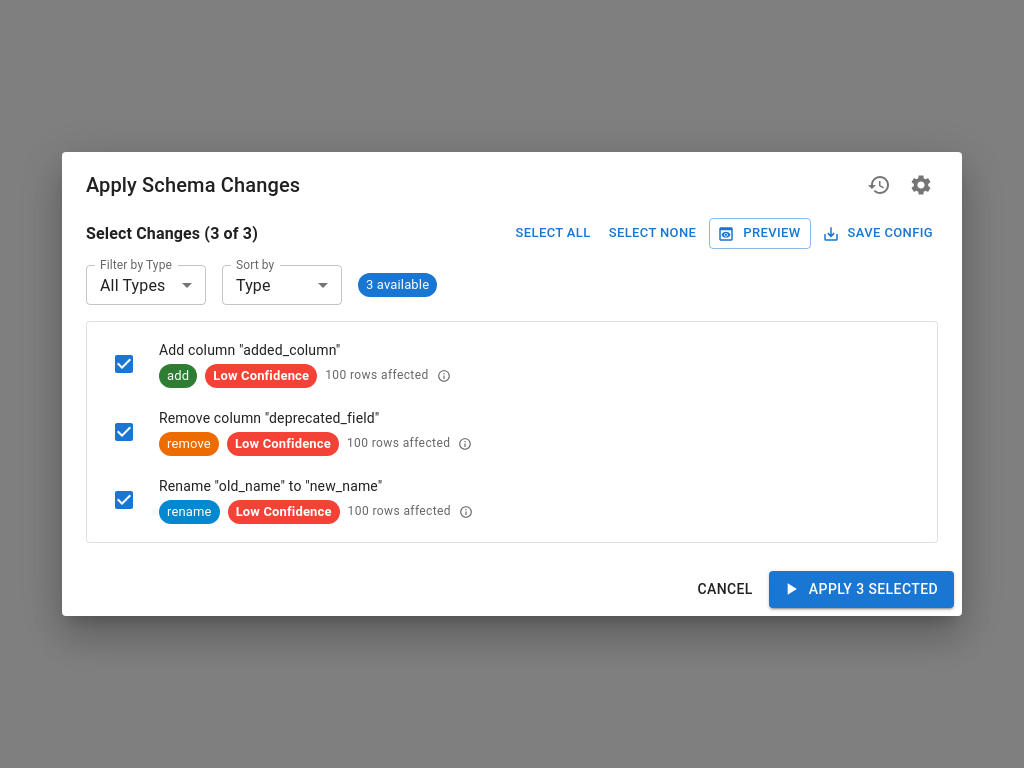
Scenario: BulkOperationsDialog › Advanced Settings › shows advanced settings when settings button is clicked
Note: Click settings button
Click the button named "Advanced settings" at (921, 185), box [904,168,938,202]
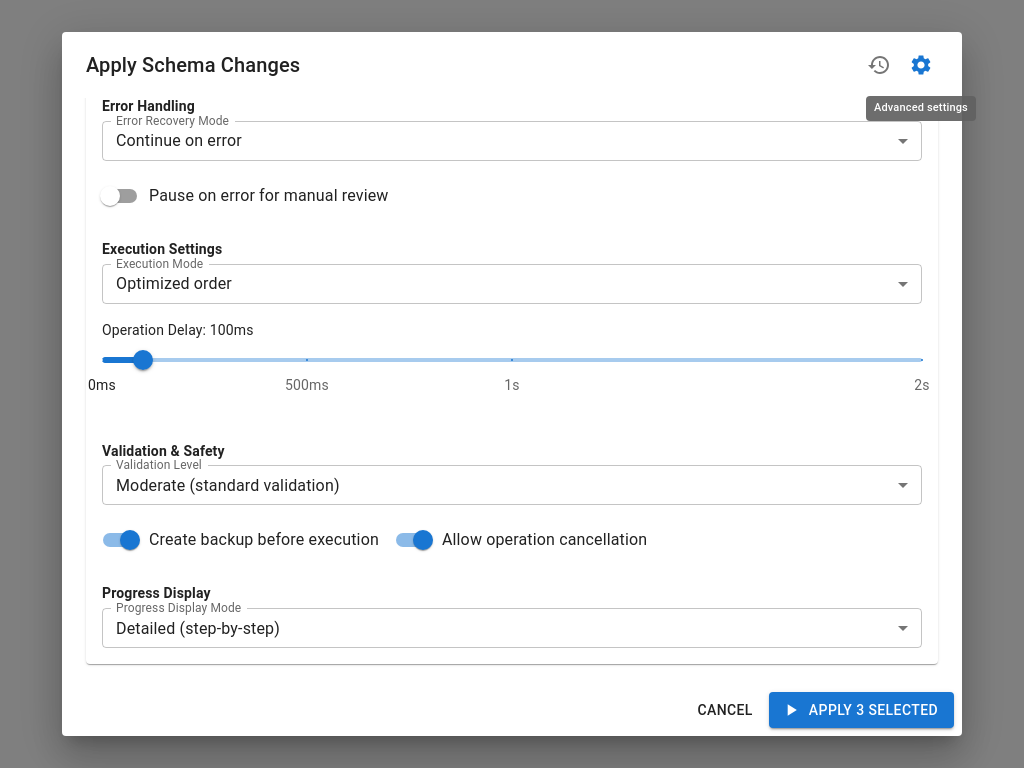
Check: the text "Error Handling" is shown, box [102,98,195,114]
Check: the text "Allow operation cancellation" is shown, box [442,528,647,552]
